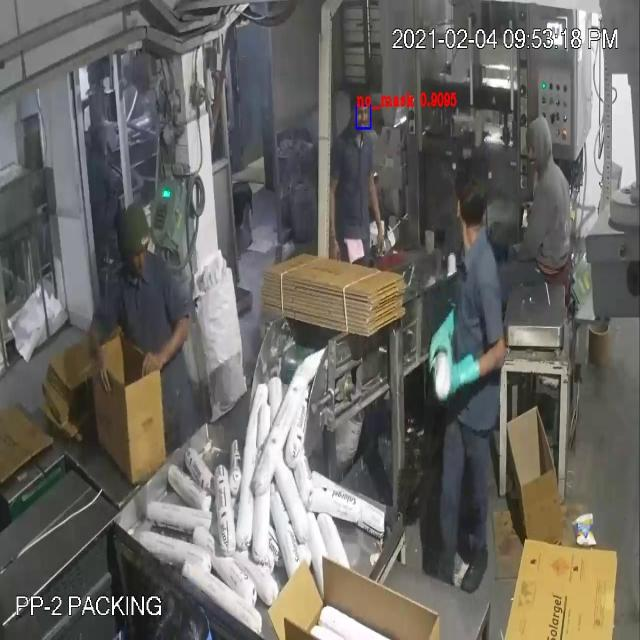gloves: (418, 292, 462, 386), (440, 354, 485, 409)
no-gloves: (134, 301, 198, 391), (78, 294, 130, 399), (314, 167, 352, 274), (363, 158, 389, 250)
